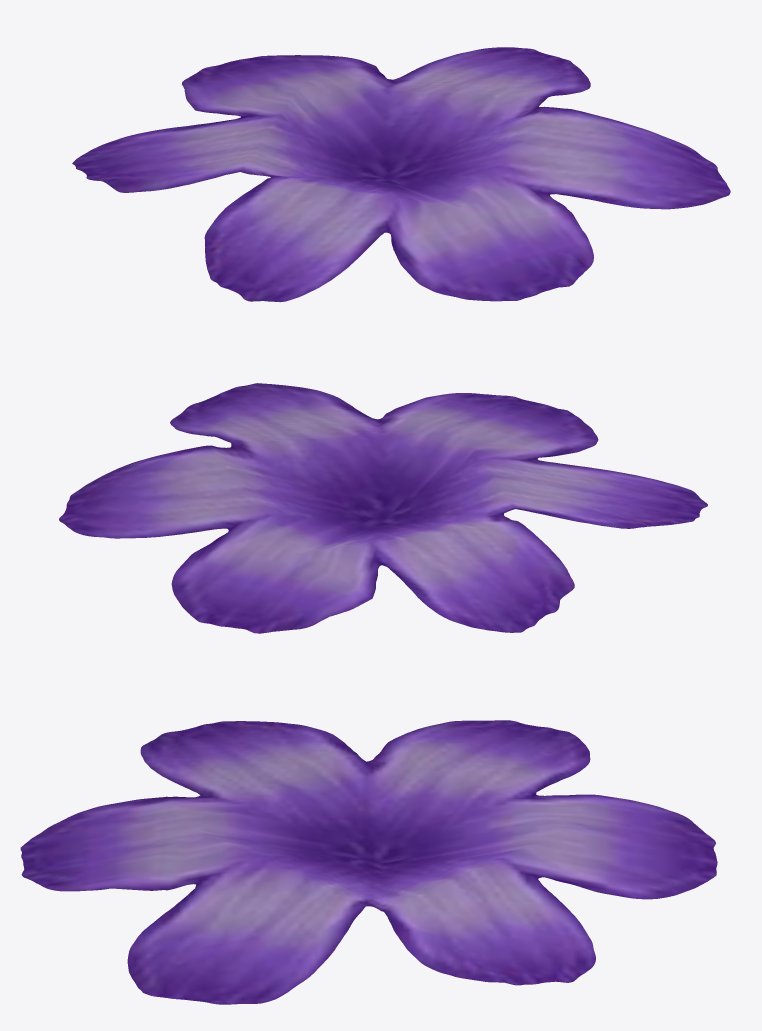
File: flower07.glb
3 renders of one model, top to bottom at view 1: azimuth 30°, elevation 25°; view 2: azimuth 150°, elevation 25°; view 3: azimuth 270°, elevation 25°, orthographic. The views are drawn at different scales.
Visible parts, largest first — view 1: Flower07; view 2: Flower07; view 3: Flower07.
Boxes of the visible parts, x1,y1,x2,y2 form: Flower07: [72, 47, 730, 302]; Flower07: [59, 383, 707, 633]; Flower07: [20, 720, 717, 1004].
Size of the model in its own units: 0.6029 by 0.0375 by 0.6029.
1 material, 1 textured.
